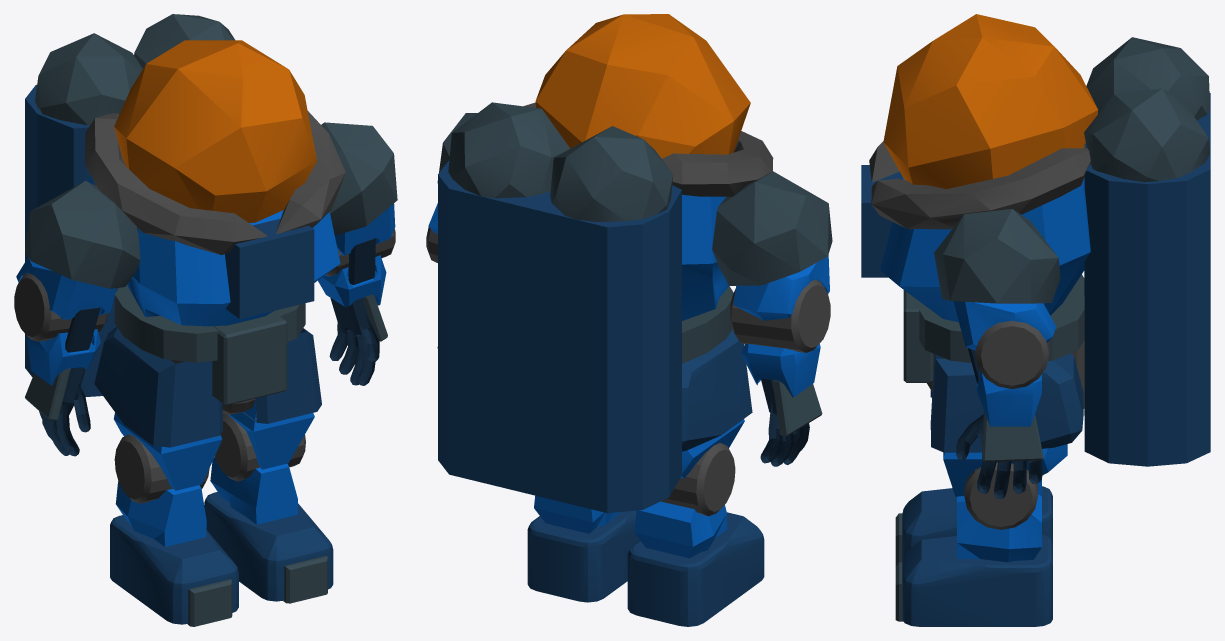
File: Astronaut.fbx
3 renders of one model, left to right at view 1: azimuth 30°, elevation 25°; view 2: azimuth 150°, elevation 25°; view 3: azimuth 270°, elevation 25°, orthographic. The views are drawn at different scales.
Visible parts, largest first — view 1: Astronaut1; view 2: Astronaut1; view 3: Astronaut1.
Boxes of the visible parts, x1=… form: Astronaut1: x1=14, y1=14, x2=397, y2=626; Astronaut1: x1=426, y1=14, x2=832, y2=626; Astronaut1: x1=861, y1=14, x2=1210, y2=626.
Size of the model in its own units: 1.03 by 1.45 by 0.8216.
